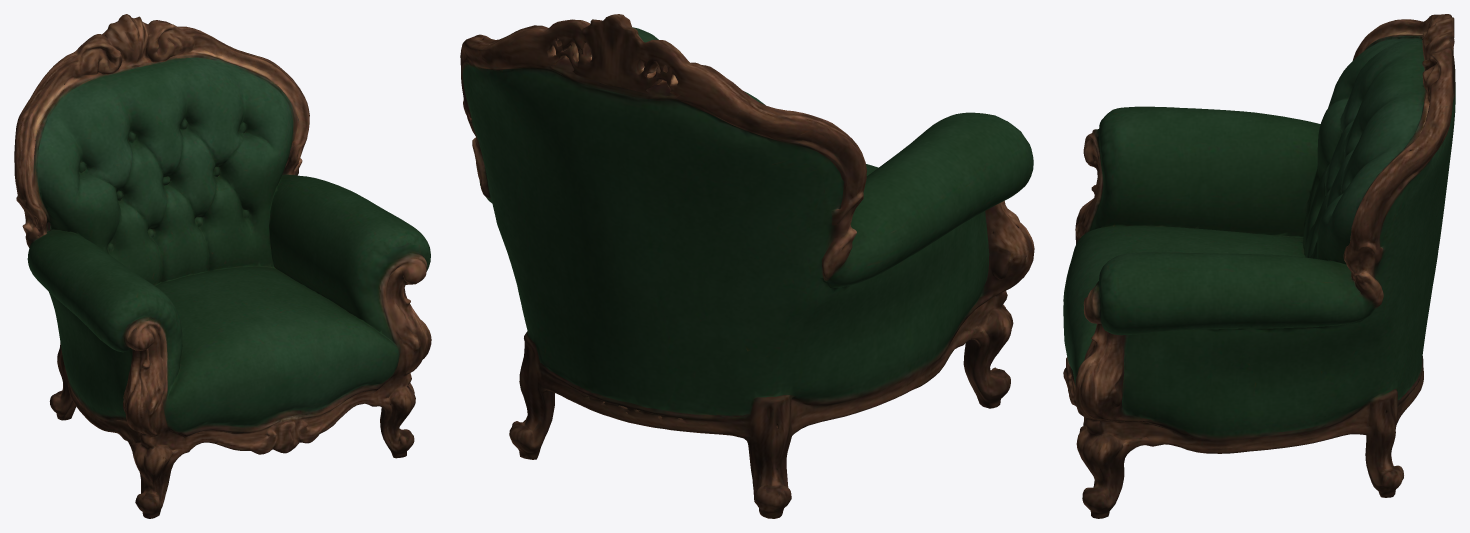
File: generation_armchair_0.glb
3 views of the same model, side by side, from view 1: azimuth 30°, elevation 25°; view 2: azimuth 150°, elevation 25°; view 3: azimuth 270°, elevation 25° (orthographic). The views are drawn at different scales.
Visible parts, largest first — view 1: geometry_0; view 2: geometry_0; view 3: geometry_0.
Part boxes in pixels (x1,y1,x2,y2): geometry_0: [14, 14, 431, 518]; geometry_0: [460, 14, 1034, 518]; geometry_0: [1063, 14, 1455, 518].
Bounding box in the file's own units: 0.9491 × 1 × 0.8352.
Materials: 1 (1 with a texture image).
